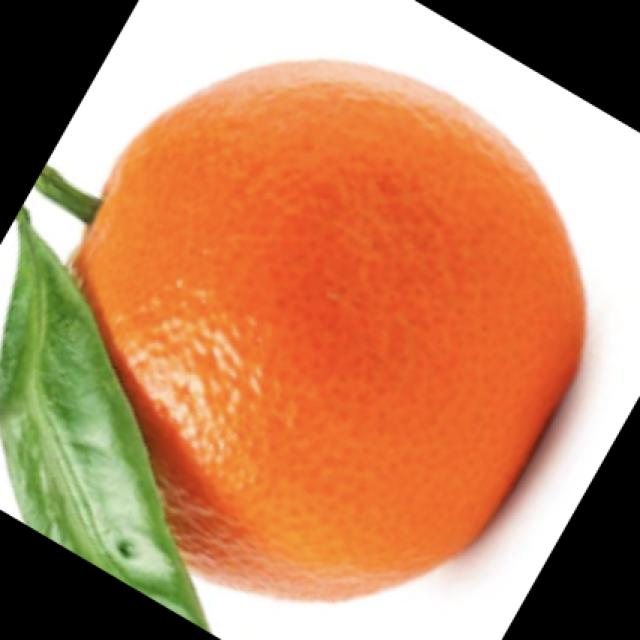matang: (77, 59, 578, 599)
